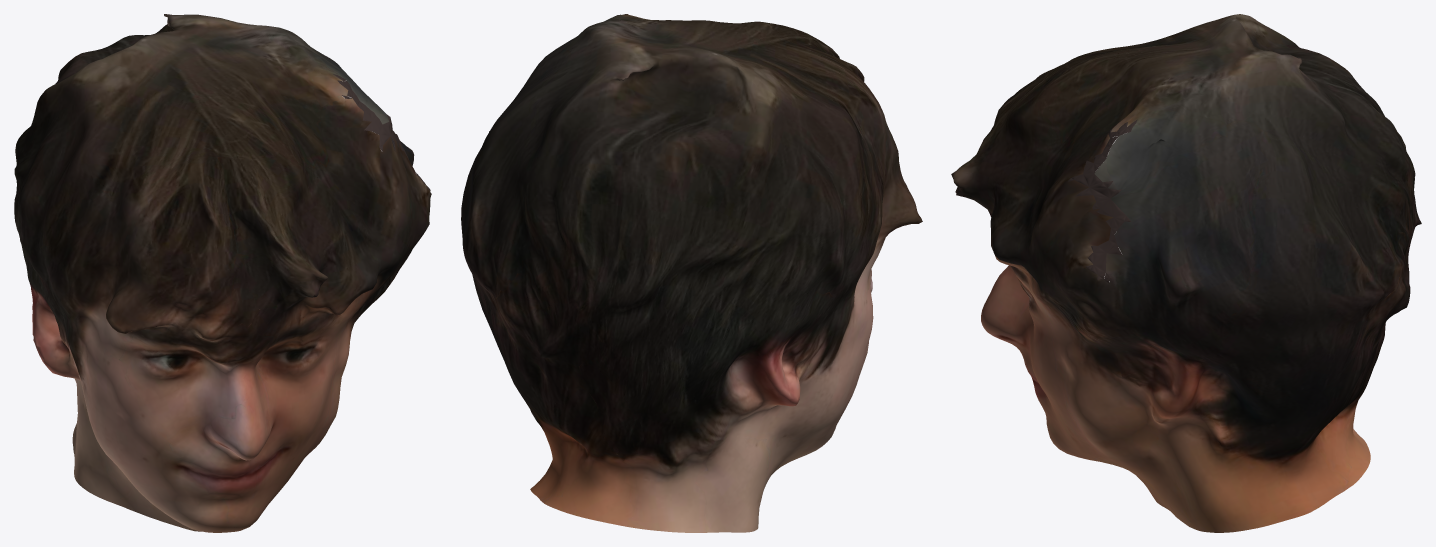
The model's file is head-web.glb.
The picture shows the model from 3 angles, left to right: view 1: azimuth 30°, elevation 25°; view 2: azimuth 150°, elevation 25°; view 3: azimuth 270°, elevation 25°; orthographic projection. The views are drawn at different scales.
Visible parts, largest first — view 1: Head_Scan; view 2: Head_Scan; view 3: Head_Scan.
Part boxes in pixels (x1=…): Head_Scan: x1=14, y1=14, x2=431, y2=532; Head_Scan: x1=461, y1=14, x2=922, y2=532; Head_Scan: x1=951, y1=14, x2=1421, y2=532.
Size of the model in its own units: 0.4239 by 0.5178 by 0.4773.
Materials: 1 (1 with a texture image).
